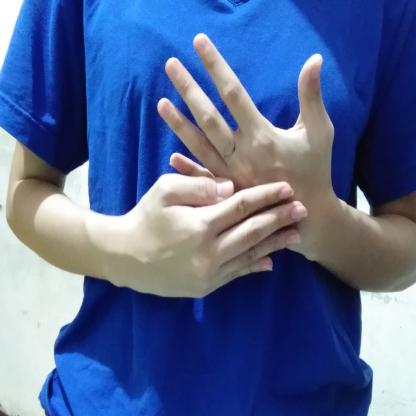thank you: (120, 30, 345, 314)
